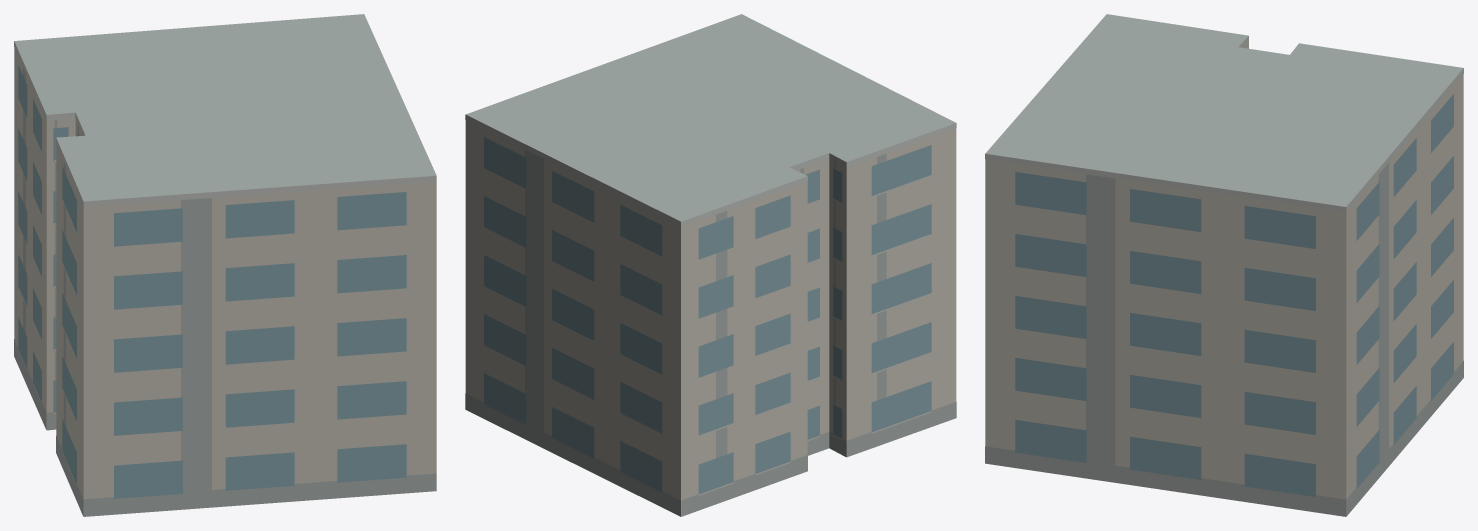
File: survey-upis-32888333.glb
The picture shows the model from 3 angles, left to right: view 1: azimuth 30°, elevation 25°; view 2: azimuth 150°, elevation 25°; view 3: azimuth 270°, elevation 25°; orthographic projection. The views are drawn at different scales.
Parts seen in each view (by area): view 1: survey-upis-32888333.tmp; view 2: survey-upis-32888333.tmp; view 3: survey-upis-32888333.tmp.
Boxes of the visible parts, x1,y1,x2,y2 form: survey-upis-32888333.tmp: (14, 14, 436, 516); survey-upis-32888333.tmp: (465, 14, 956, 516); survey-upis-32888333.tmp: (985, 14, 1463, 516).
Size of the model in its own units: 17.78 by 13.3 by 18.63.
